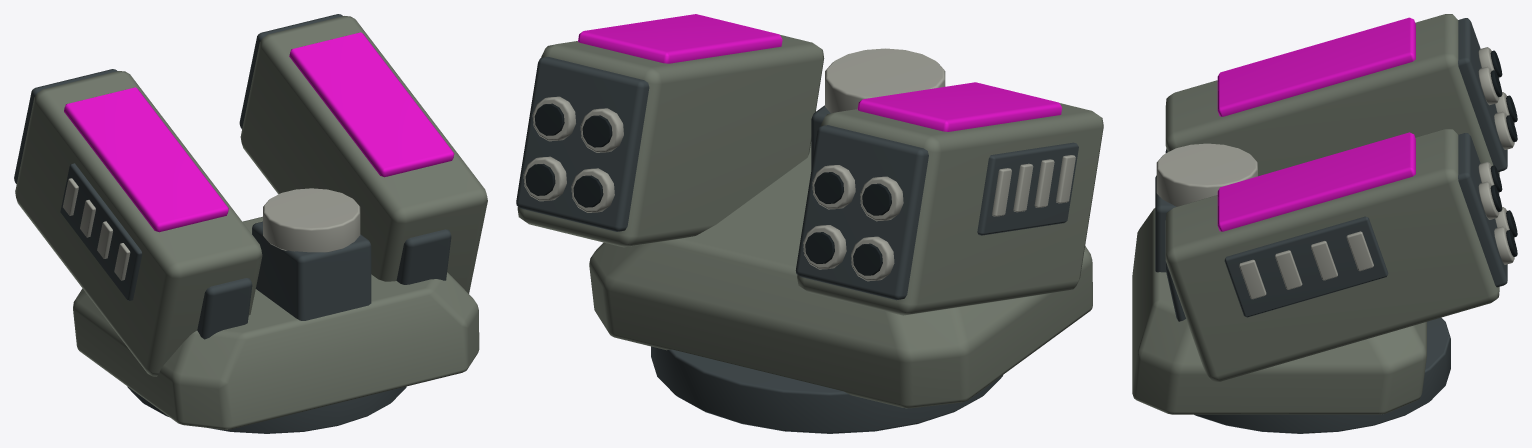
File: wheeled-artillery-air-defense.glb
The picture shows the model from 3 angles, left to right: view 1: azimuth 30°, elevation 25°; view 2: azimuth 150°, elevation 25°; view 3: azimuth 270°, elevation 25°; orthographic projection. The views are drawn at different scales.
Parts seen in each view (by area): view 1: TurretShell; view 2: TurretShell; view 3: TurretShell.
Part boxes in pixels (left/top/right/bottom): TurretShell: left=14, top=14, right=487, bottom=433; TurretShell: left=516, top=14, right=1103, bottom=433; TurretShell: left=1132, top=14, right=1517, bottom=433.
Size of the model in its own units: 1.34 by 1.01 by 1.26.
